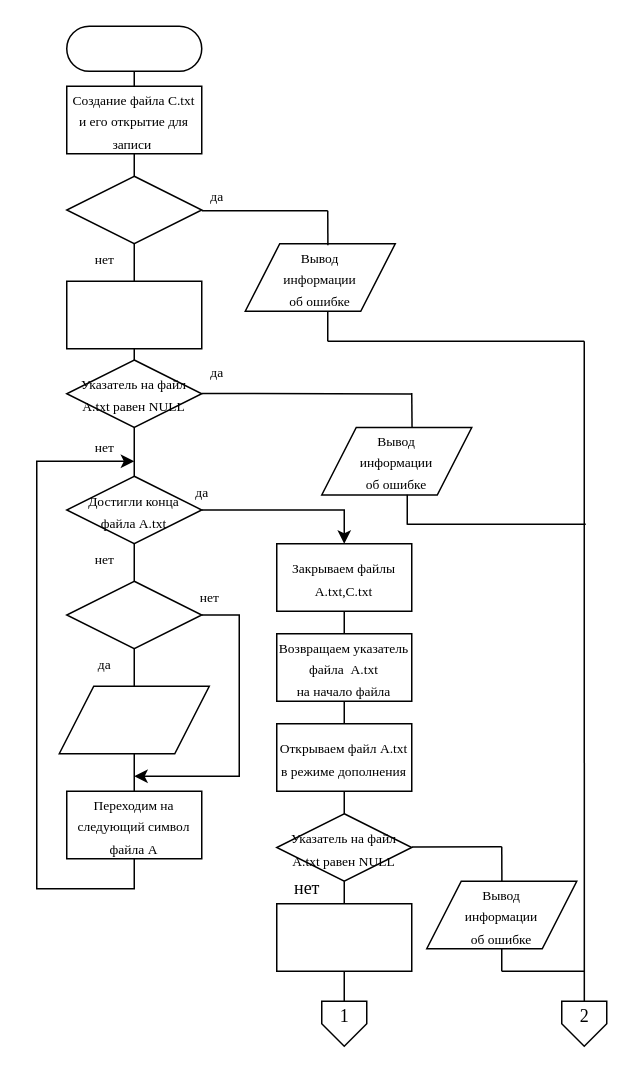
Image size: 633x1073. Some labels were removed from this diagram. Here are the shapes that lost their labels. From the top down, the centre of each, then its label:
At (133,48): "Начало".
At (133,209): "Указатель на файл C.txt равен NULL".
At (133,314): "Открытие файла A.txt в режиме чтения".
At (133,614): "символ файла A-прописная буква".
At (133,719): "Записывем этот символ в файл С".
At (343,936): "Открываем файл B.txt в режиме чтения".
